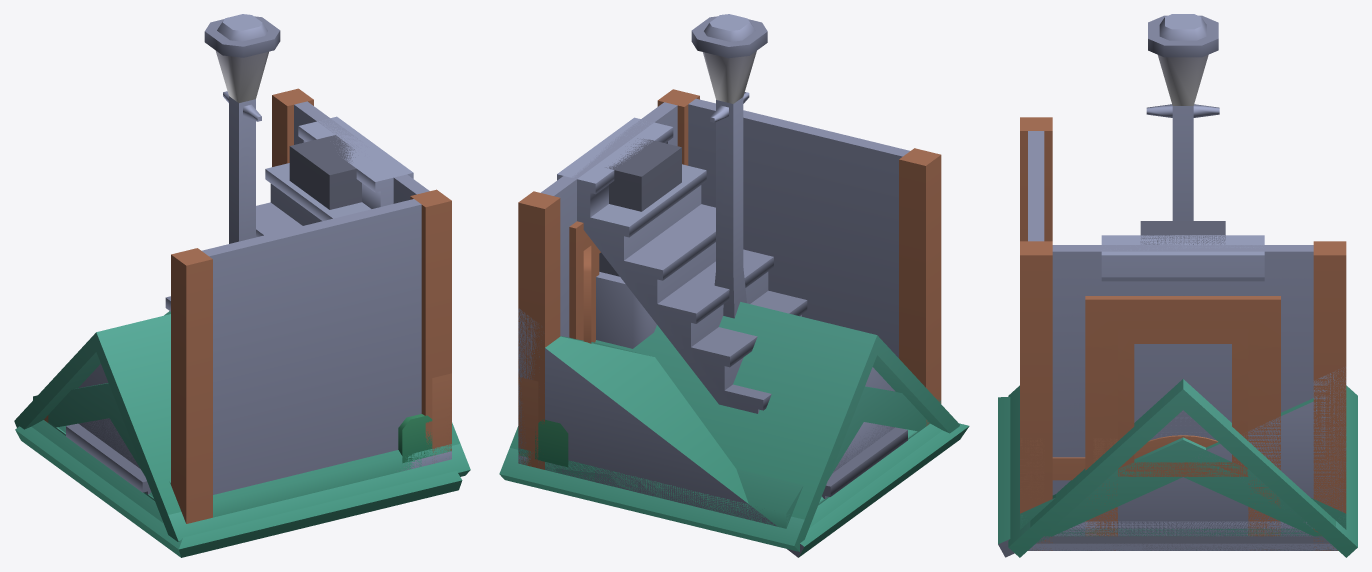
File: buildings.glb
3 renders of one model, left to right at view 1: azimuth 30°, elevation 25°; view 2: azimuth 150°, elevation 25°; view 3: azimuth 270°, elevation 25°, orthographic. The views are drawn at different scales.
Parts seen in each view (by area): view 1: wall-corner, roof-gable, wall, roof-corner, stairs-stone, roof-gable-top, lantern, roof-gable-end, chimney, hedge, fence, wall-doorway-square; view 2: wall-corner, roof-gable, roof-corner, stairs-stone, lantern, wall, roof-gable-top, roof-gable-end, chimney, wall-doorway-square, fence, hedge (+2 smaller); view 3: wall, wall-doorway-square, roof-corner, wall-window-shutters, roof-gable, roof-gable-top, lantern, stairs-stone, wall-corner, hedge, roof-gable-end, road (+6 smaller).
Boxes of the visible parts, left/top/right/bottom form: wall-corner: left=171, top=199, right=421, bottom=523; roof-gable: left=14, top=314, right=470, bottom=541; wall: left=272, top=88, right=451, bottom=453; roof-corner: left=15, top=311, right=462, bottom=557; stairs-stone: left=66, top=116, right=413, bottom=494; roof-gable-top: left=33, top=383, right=451, bottom=517; lantern: left=204, top=14, right=280, bottom=243; roof-gable-end: left=31, top=420, right=469, bottom=537; chimney: left=289, top=135, right=361, bottom=209; hedge: left=398, top=414, right=451, bottom=471; fence: left=432, top=373, right=451, bottom=454; wall-doorway-square: left=294, top=102, right=429, bottom=198; wall-corner: left=688, top=98, right=941, bottom=426; roof-gable: left=499, top=302, right=959, bottom=551; roof-corner: left=518, top=308, right=969, bottom=557; stairs-stone: left=557, top=117, right=907, bottom=498; lantern: left=691, top=14, right=767, bottom=318; wall: left=518, top=89, right=699, bottom=469; roof-gable-top: left=518, top=386, right=940, bottom=528; roof-gable-end: left=499, top=316, right=942, bottom=548; chimney: left=596, top=138, right=681, bottom=348; wall-doorway-square: left=540, top=102, right=677, bottom=340; fence: left=518, top=377, right=538, bottom=468; hedge: left=518, top=419, right=568, bottom=467; wall: left=1020, top=241, right=1346, bottom=550; wall-doorway-square: left=1054, top=261, right=1310, bottom=550; roof-corner: left=998, top=367, right=1346, bottom=557; wall-window-shutters: left=1052, top=251, right=1313, bottom=494; roof-gable: left=1008, top=379, right=1357, bottom=557; roof-gable-top: left=1020, top=437, right=1346, bottom=550; lantern: left=1146, top=14, right=1219, bottom=220; stairs-stone: left=1101, top=235, right=1264, bottom=281; wall-corner: left=1020, top=117, right=1052, bottom=241; hedge: left=1054, top=521, right=1312, bottom=536; roof-gable-end: left=1008, top=379, right=1357, bottom=546; road: left=1028, top=543, right=1337, bottom=550.
Size of what is drawn, in the model's own units: 1.12 by 1.58 by 1.1.
